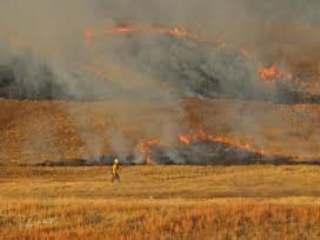fire: (133, 124, 274, 163), (84, 20, 238, 50)
